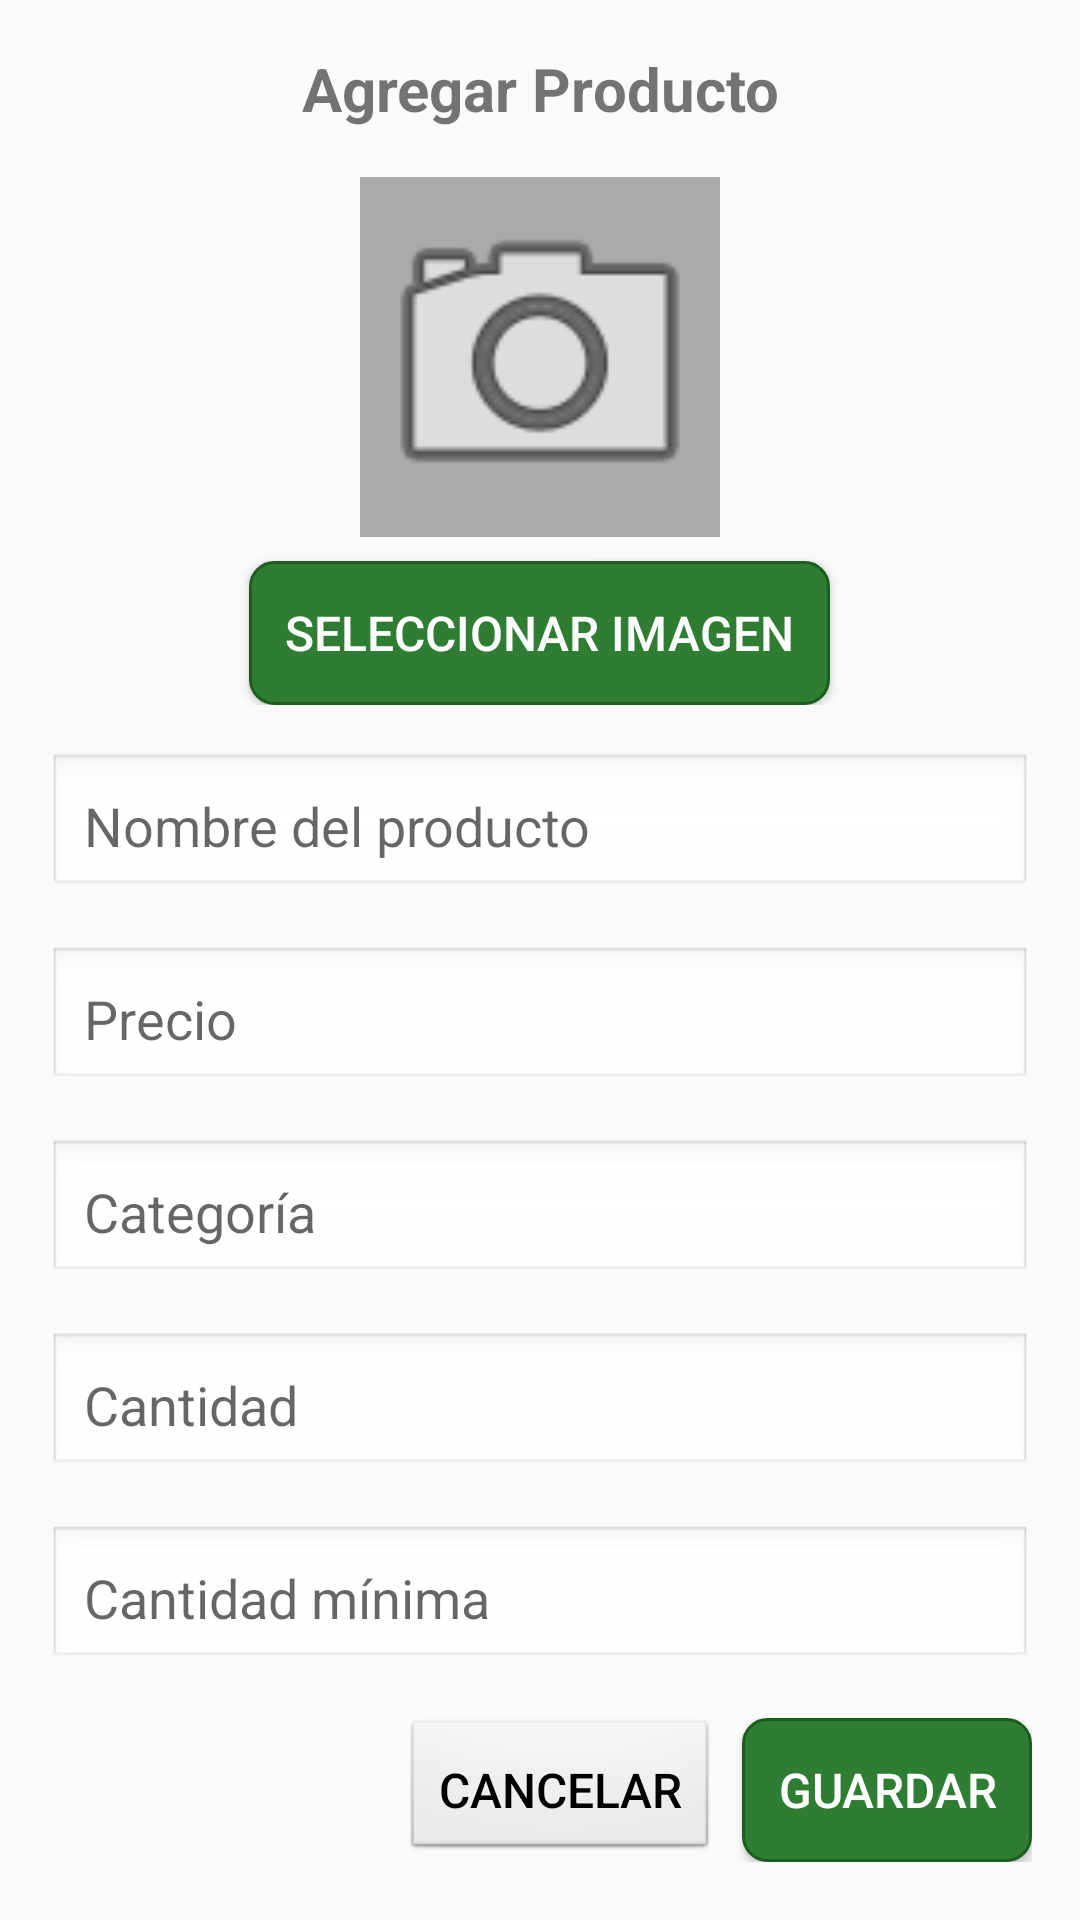

Named icons in this screenshot (1080px x 1920px) and their bounding boxes, (x1, y1, x2, y2):
Imagen del producto: (360, 177, 720, 537)
